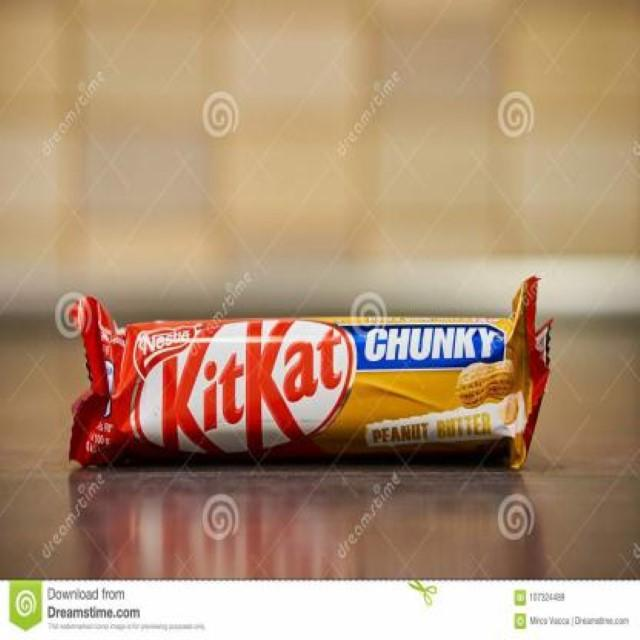kitkat_chocolate: (61, 283, 552, 465)
